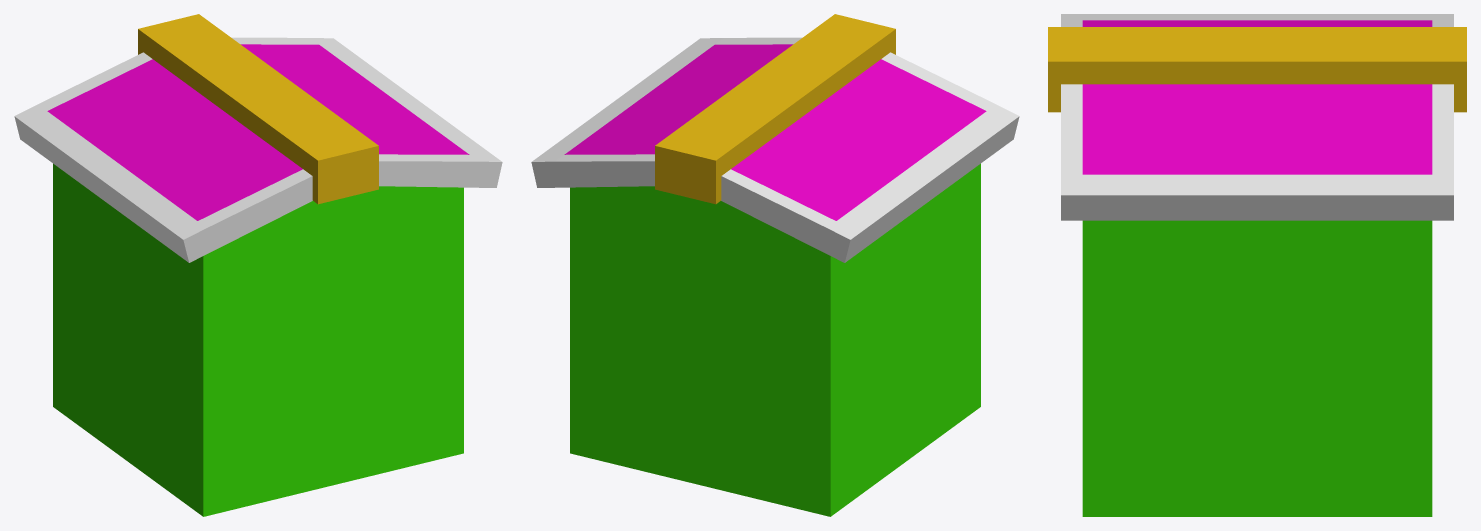
Rendered from smallBuild.fbx.
3 renders of one model, left to right at view 1: azimuth 30°, elevation 25°; view 2: azimuth 150°, elevation 25°; view 3: azimuth 270°, elevation 25°, orthographic. The views are drawn at different scales.
Visible parts, largest first — view 1: House; view 2: House; view 3: House.
Part boxes in pixels (<box>): House: <box>14,14,502,516</box>; House: <box>531,14,1019,516</box>; House: <box>1048,14,1466,516</box>.
Bounding box in the file's own units: 3948 × 4052 × 3857.
